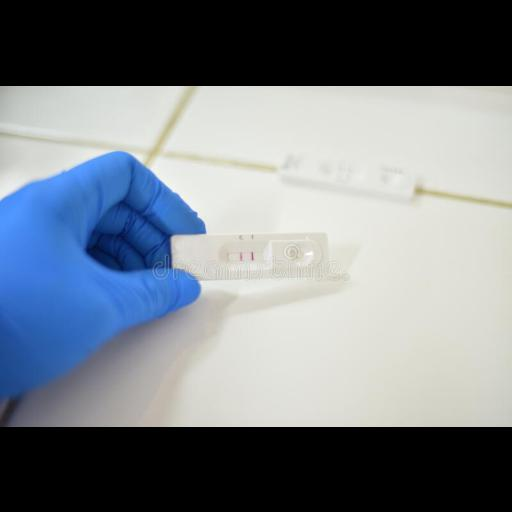Pos: (172, 232, 326, 278)
